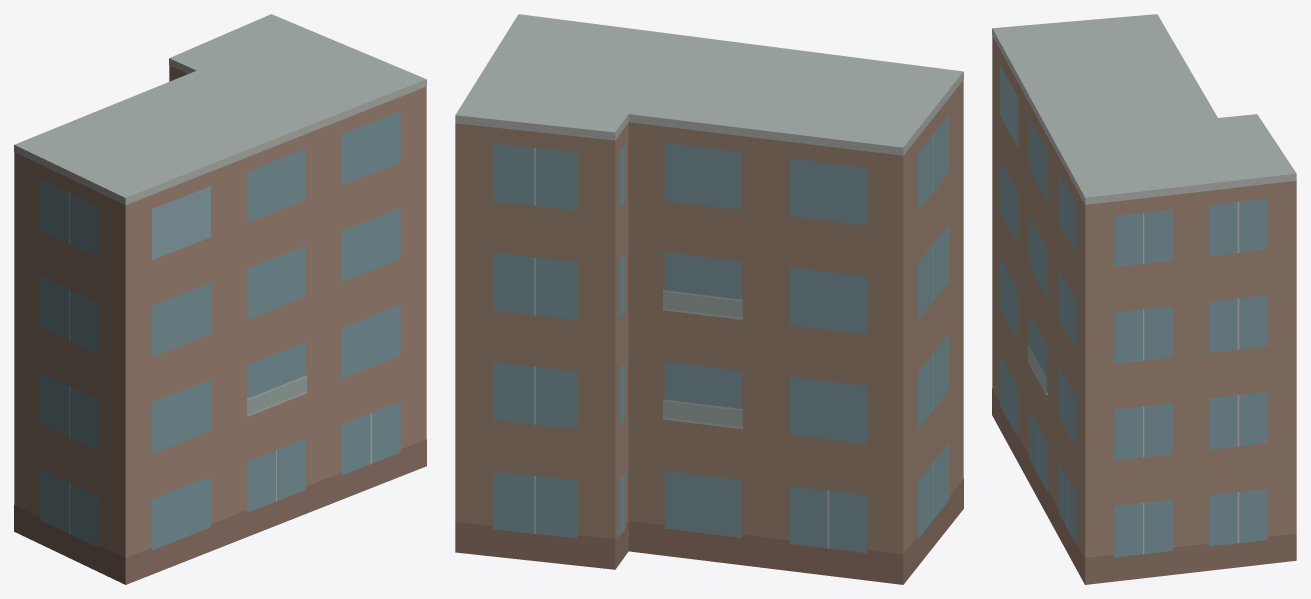
The model's file is survey-upis-32756287.glb.
3 views of the same model, side by side, from view 1: azimuth 30°, elevation 25°; view 2: azimuth 150°, elevation 25°; view 3: azimuth 270°, elevation 25° (orthographic). The views are drawn at different scales.
Visible parts, largest first — view 1: survey-upis-32756287.tmp; view 2: survey-upis-32756287.tmp; view 3: survey-upis-32756287.tmp.
Boxes of the visible parts, x1,y1,x2,y2 form: survey-upis-32756287.tmp: (14, 14, 426, 584); survey-upis-32756287.tmp: (455, 14, 963, 584); survey-upis-32756287.tmp: (992, 14, 1296, 584).
Bounding box in the file's own units: 13.46 × 13.2 × 9.42.
